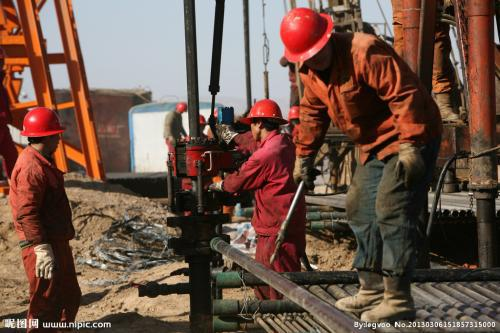helmet: (273, 4, 334, 78), (19, 106, 63, 159), (241, 96, 287, 142), (171, 100, 189, 118)
